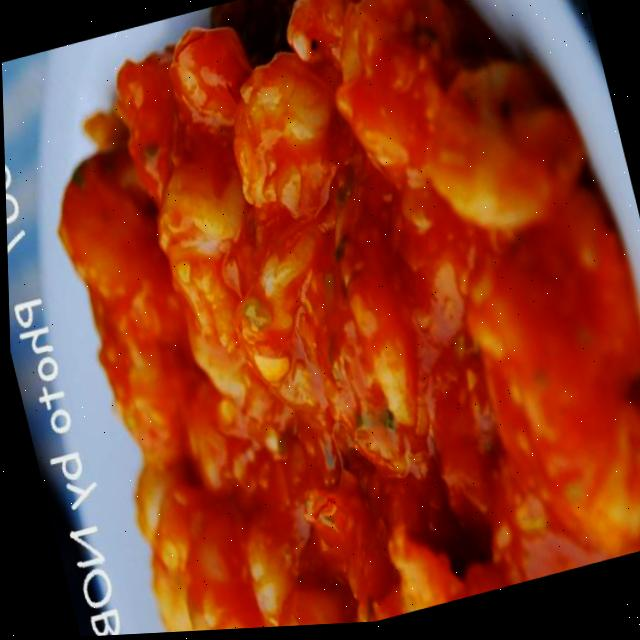熟制海鲜: (9, 0, 640, 640)
